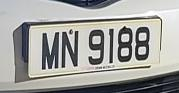1: (105, 23, 117, 69)
8: (133, 20, 152, 67), (116, 21, 134, 68)
9: (85, 25, 107, 70)
M: (38, 26, 61, 77)
N: (60, 25, 81, 76)
